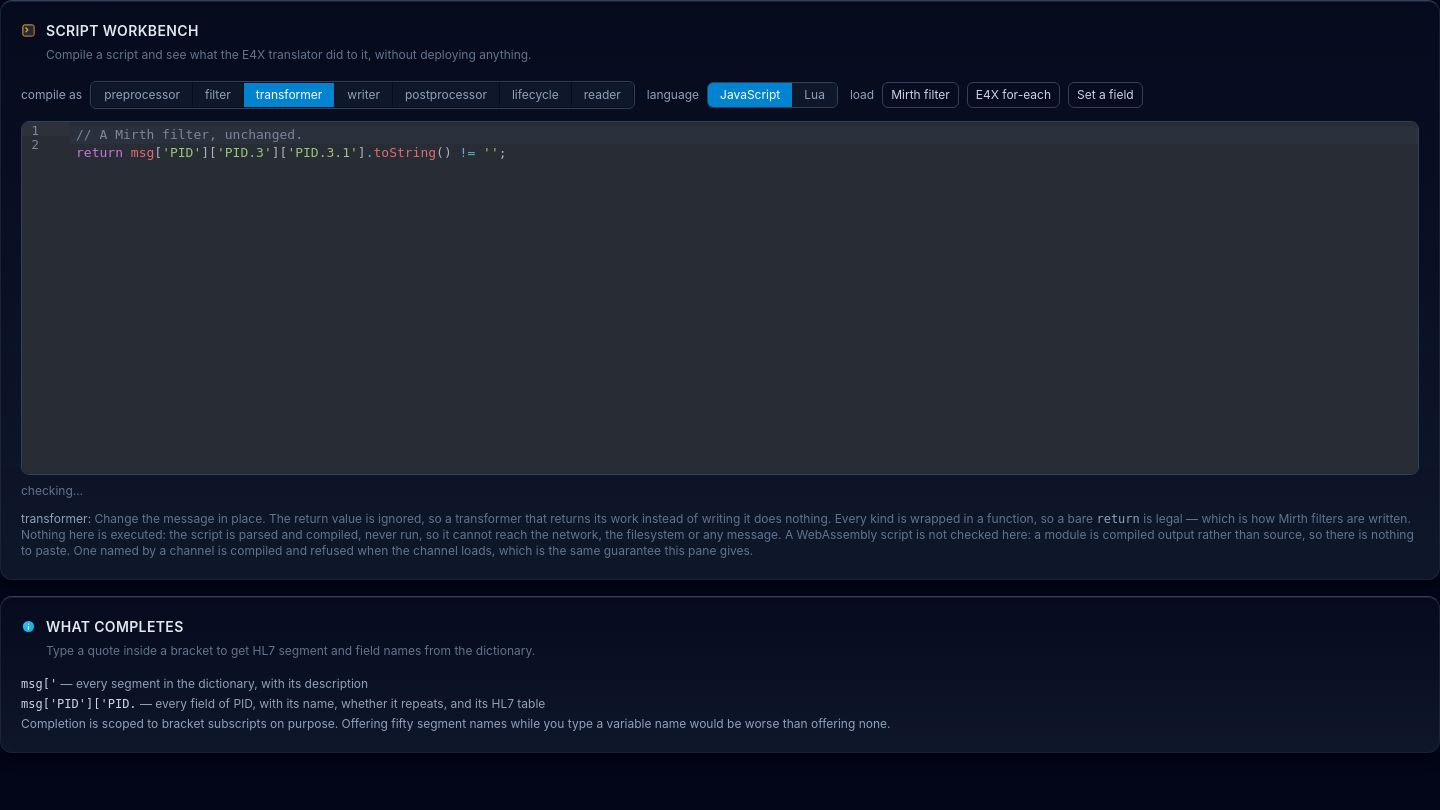
Test case: the script workbench › describes what the selected slot expects
Click the button "lifecycle". click: (535, 94)
box: [500, 82, 571, 106]
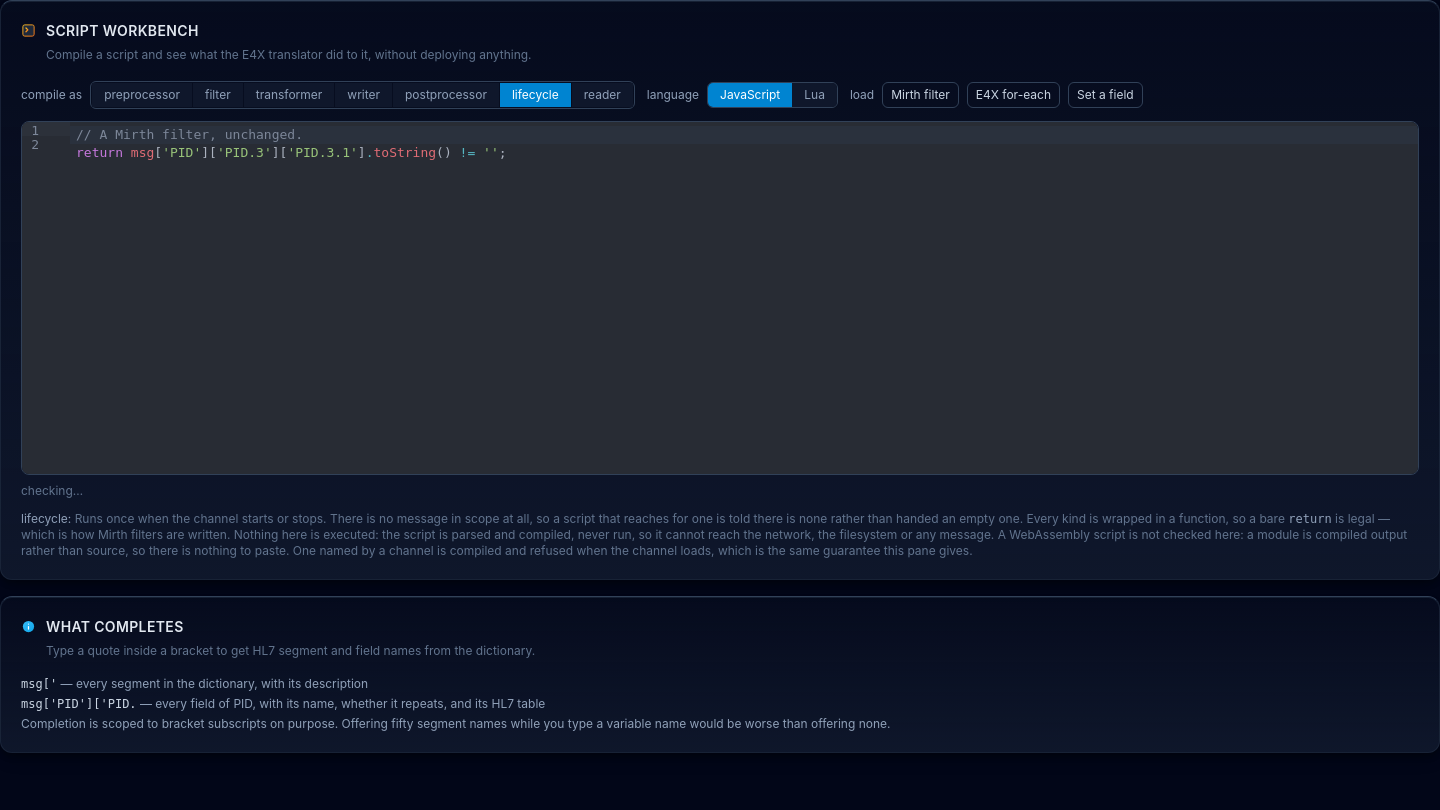
Expected: the text "no message in scope" is shown, [75, 510, 1023, 526]
Click the button "preprocessor". click: (142, 94)
box: [92, 82, 192, 106]
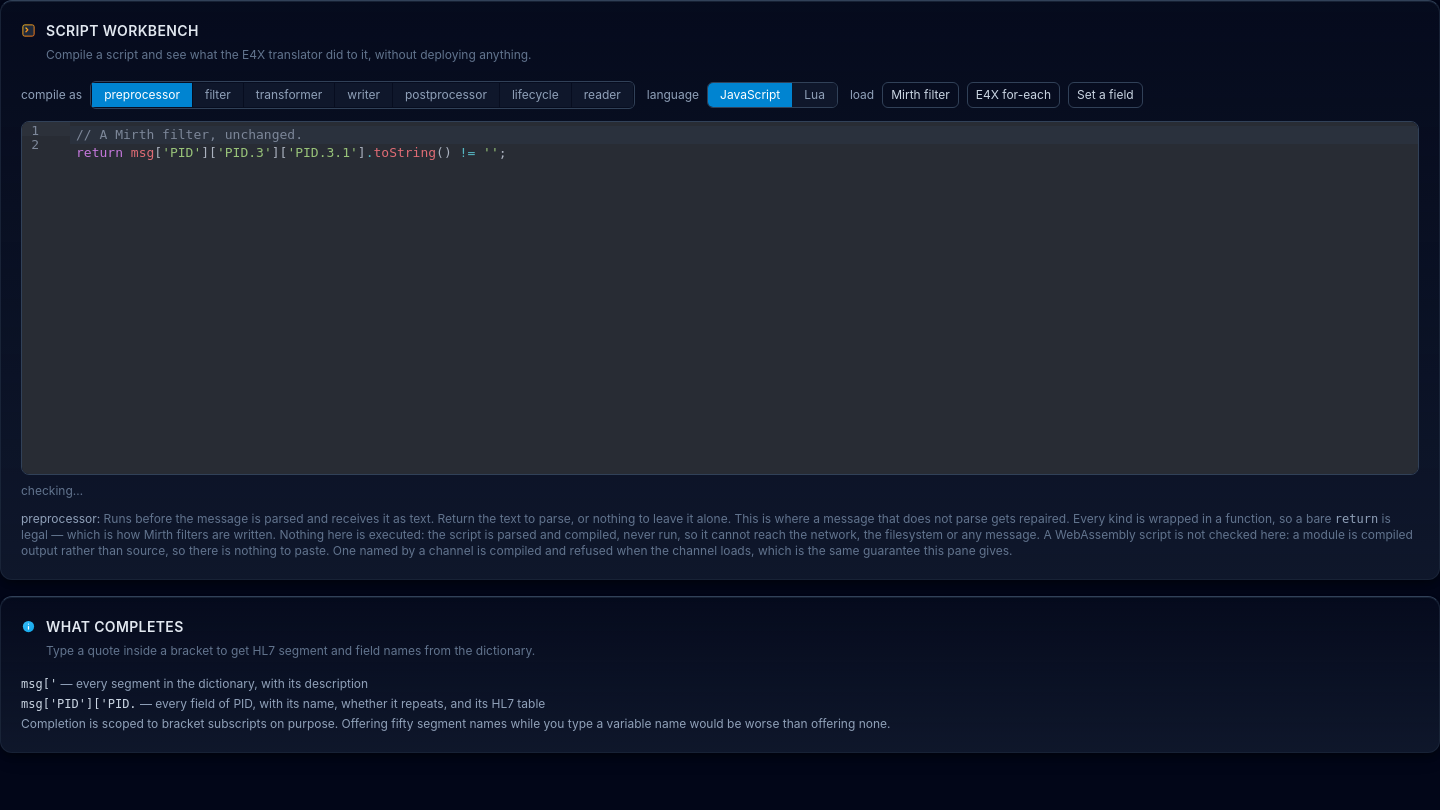
Expected: the text "before the message is parsed" is shown, [104, 510, 1070, 526]
